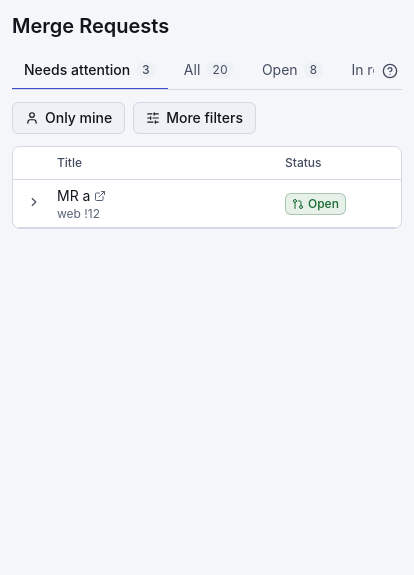
Test: MergeRequestsPage › reveals the fields hidden on narrow screens in an expanded row
The image size is (414, 575).
expect the text "MR a" is shown: met, box [57, 186, 90, 206]
Click the button named "Show details for MR a" at [34, 202], box [25, 193, 43, 211]
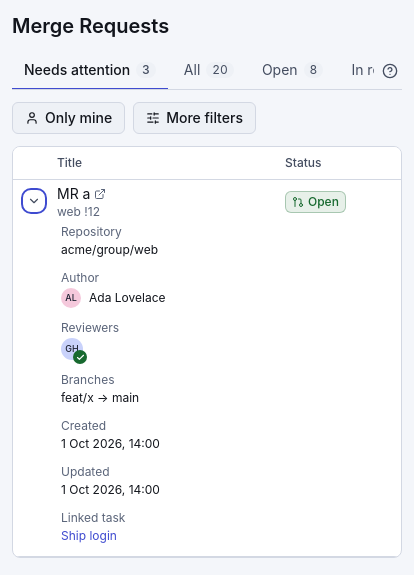
expect the button named "Hide details for MR a" is expanded: met, box [25, 192, 43, 210]
expect the text "feat/x → main" is shown: met, box [61, 390, 139, 405]
expect the text "Repository" is shown: met, box [61, 224, 122, 239]
